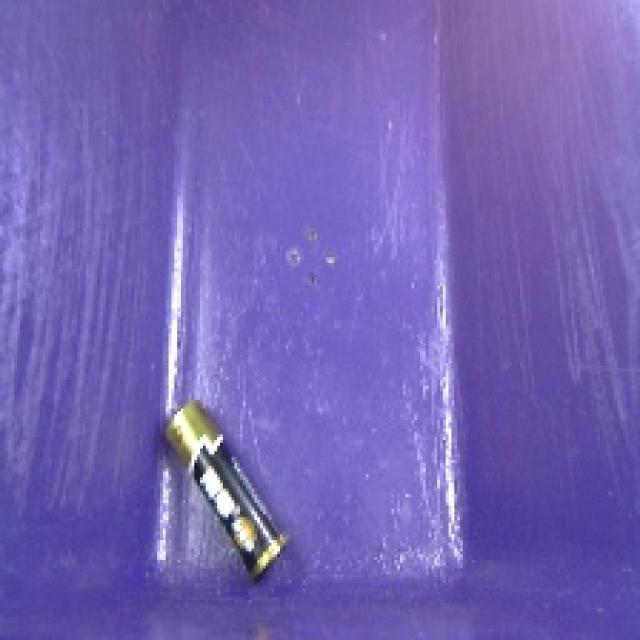battery: (154, 378, 300, 589)
